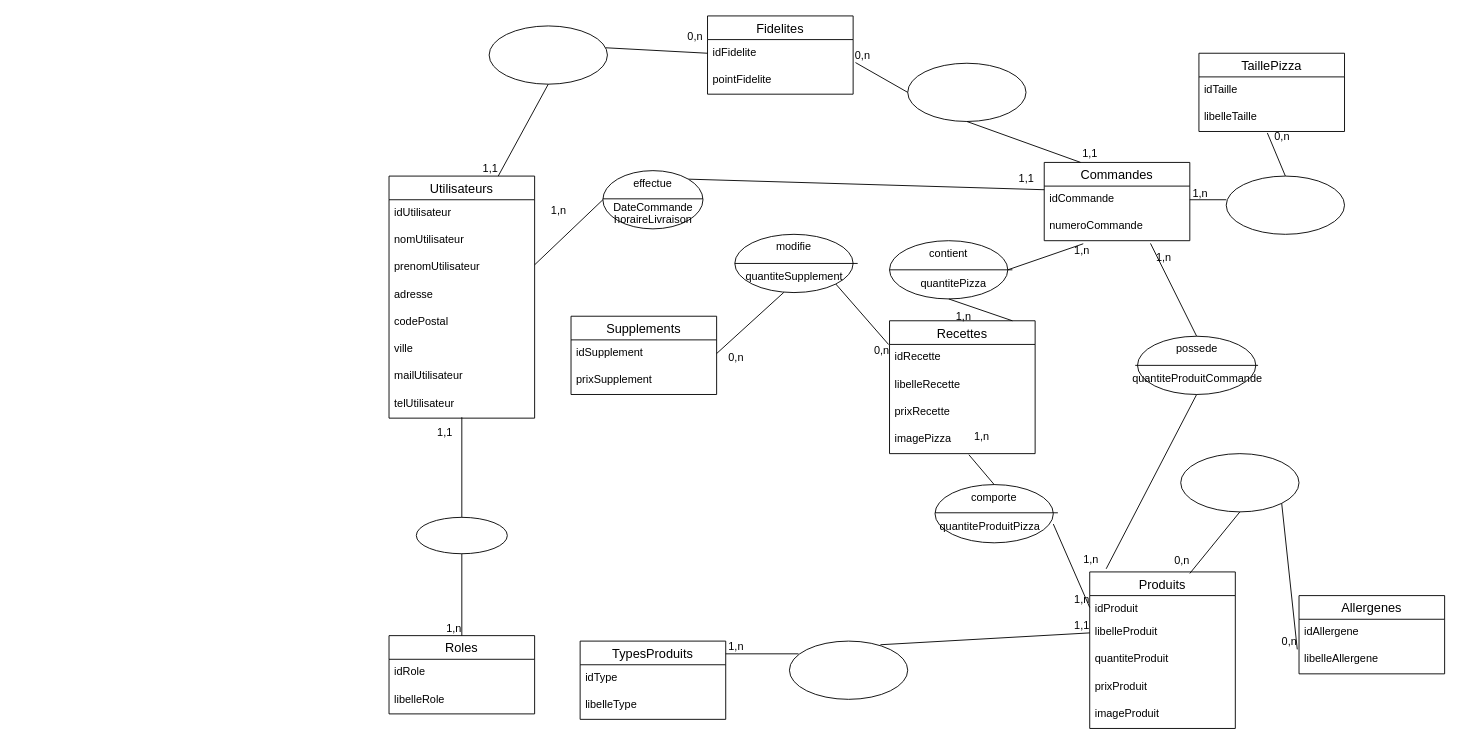
Some shapes in this 1461 by 747 pixel diagram are drawn without their labels. The shapes that lost their labels are listed below. From the top down, each one's centre as x and y in pixels, then its label:
At point (547, 54): "obtient".
At point (966, 91): "genere".
At point (1285, 204): "definit".
At point (1239, 482): "est composé".
At point (461, 535): "assigne".
At point (848, 669): "designe".
